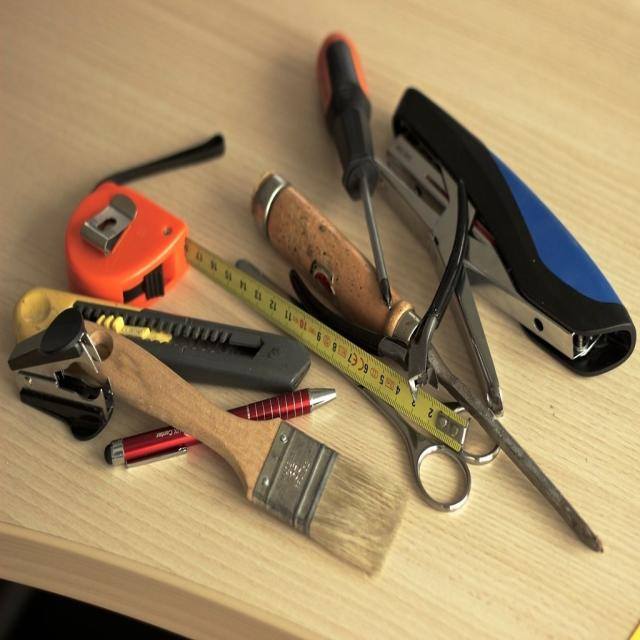E-waste: (15, 25, 629, 570)
